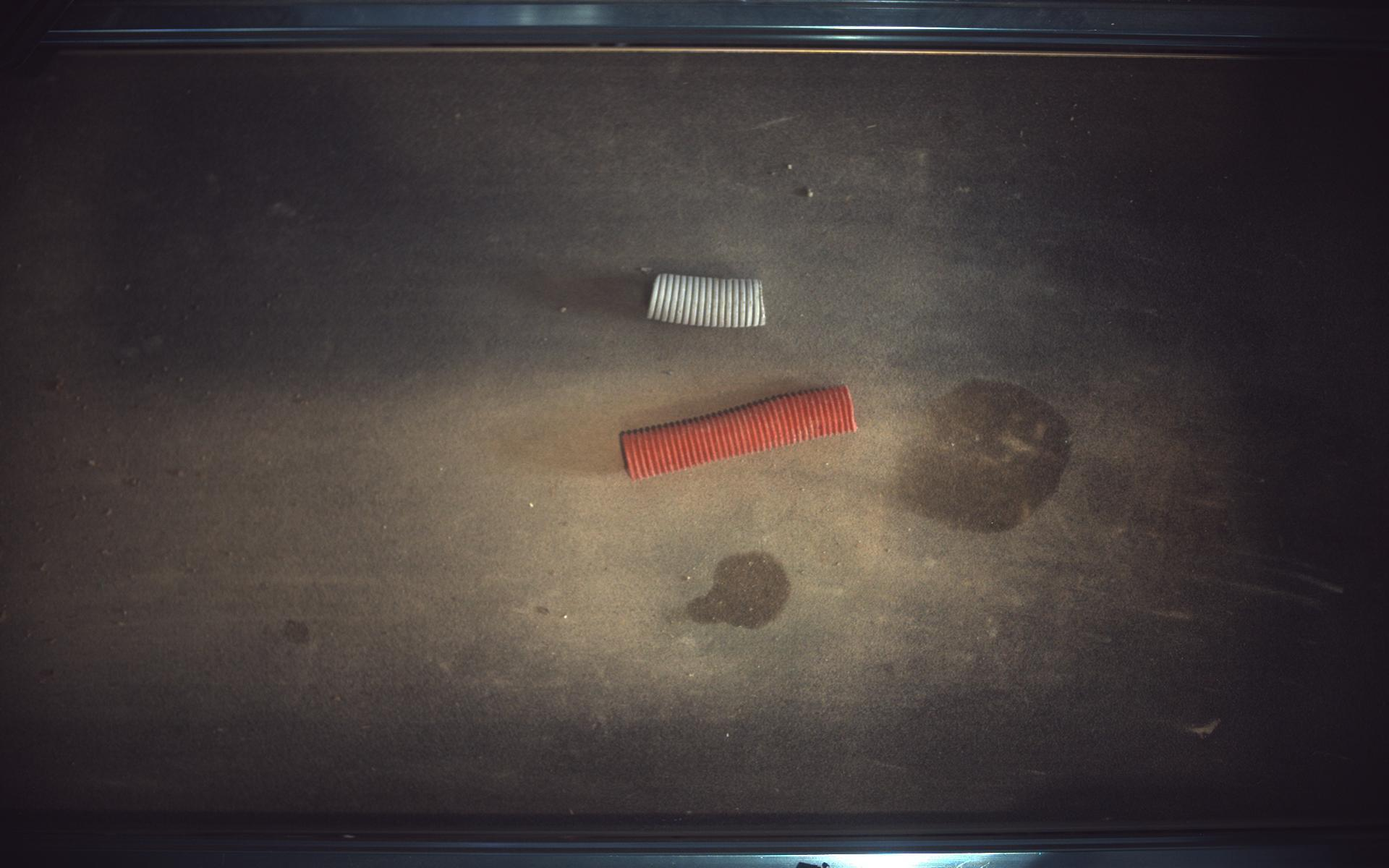pipes: (621, 385, 859, 480), (649, 273, 767, 327)
